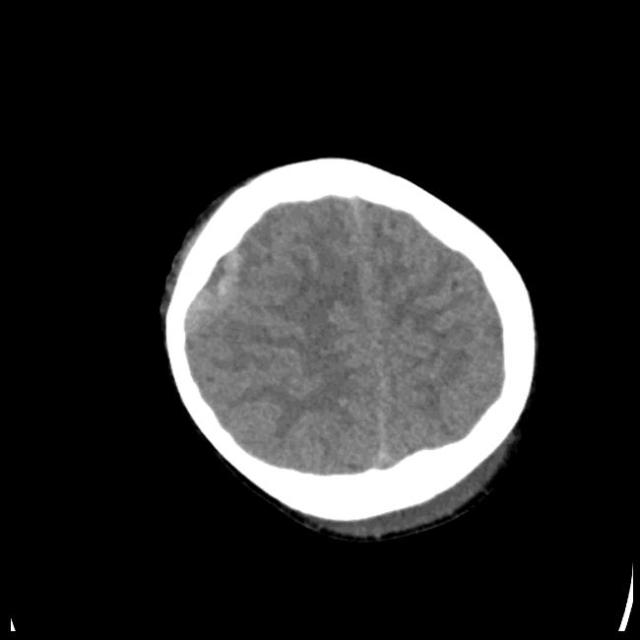lesion: (155, 151, 542, 544)
